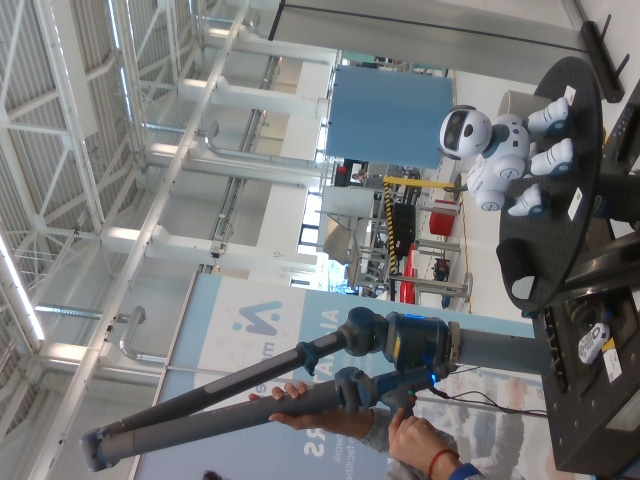Robot arm: (79, 307, 537, 472)
